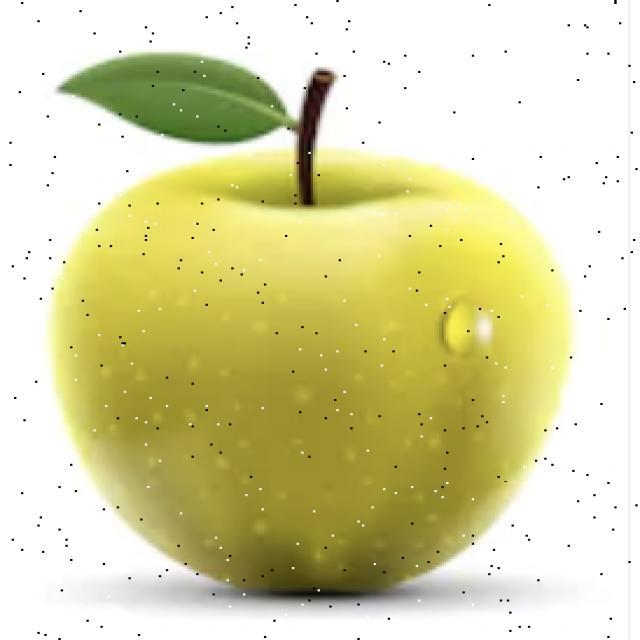Fresh Apple: (77, 167, 540, 578)
